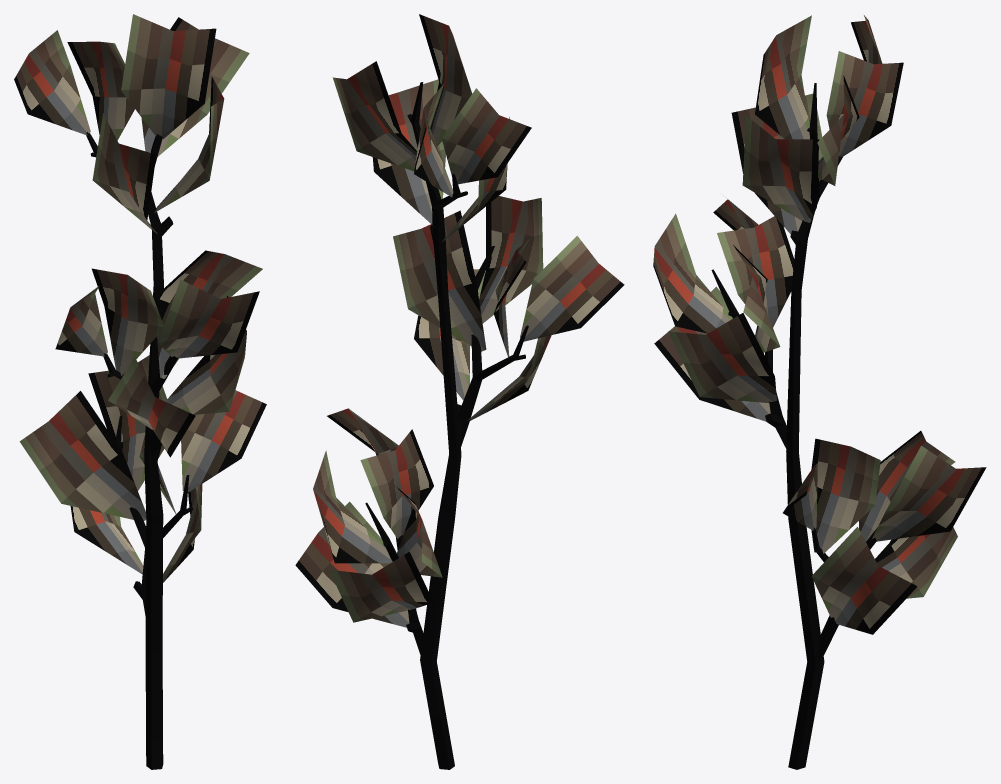
The model's file is SM_Tree_Dead_01_LOD_01.fbx.
The picture shows the model from 3 angles, left to right: view 1: azimuth 30°, elevation 25°; view 2: azimuth 150°, elevation 25°; view 3: azimuth 270°, elevation 25°; orthographic projection.
Parts seen in each view (by area): view 1: SM_Tree_Dead_01_LOD_01; view 2: SM_Tree_Dead_01_LOD_01; view 3: SM_Tree_Dead_01_LOD_01.
Part boxes in pixels (box(x1,y1,x2,y2)): SM_Tree_Dead_01_LOD_01: box(14, 14, 266, 769); SM_Tree_Dead_01_LOD_01: box(295, 14, 624, 769); SM_Tree_Dead_01_LOD_01: box(653, 15, 986, 769).
Size of the model in its own units: 125 by 350 by 142.
Materials: 1 (1 with a texture image).
